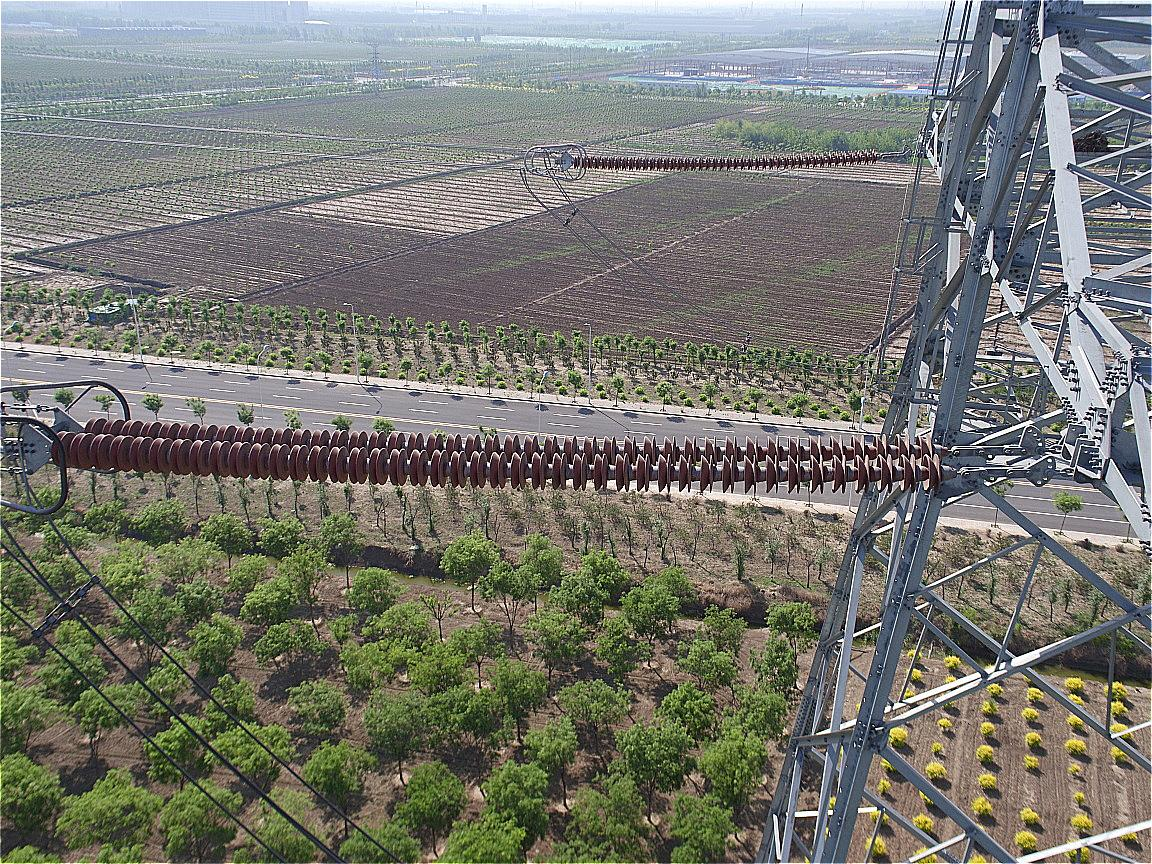insultor2: (50, 417, 941, 492), (572, 146, 881, 171)
